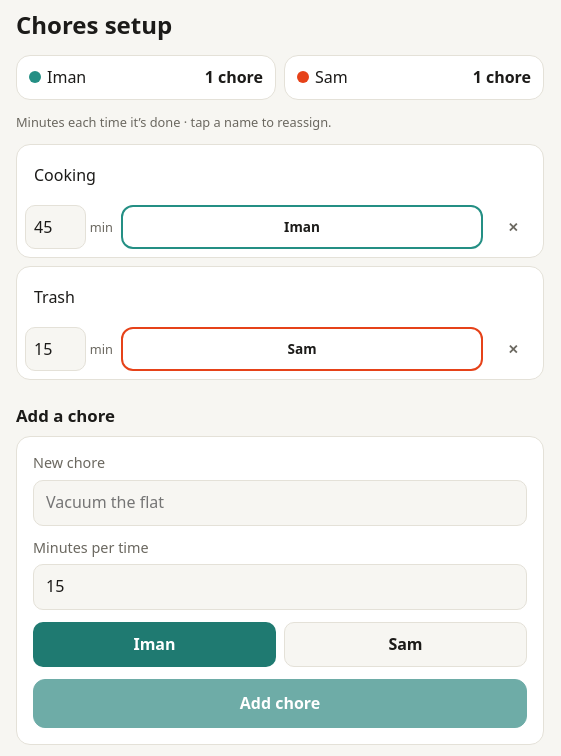
blurring an emptied block field reverts and does not write
Clear the field named "Minutes per time for Cooking" at point(55, 227), box [25,205,86,249]
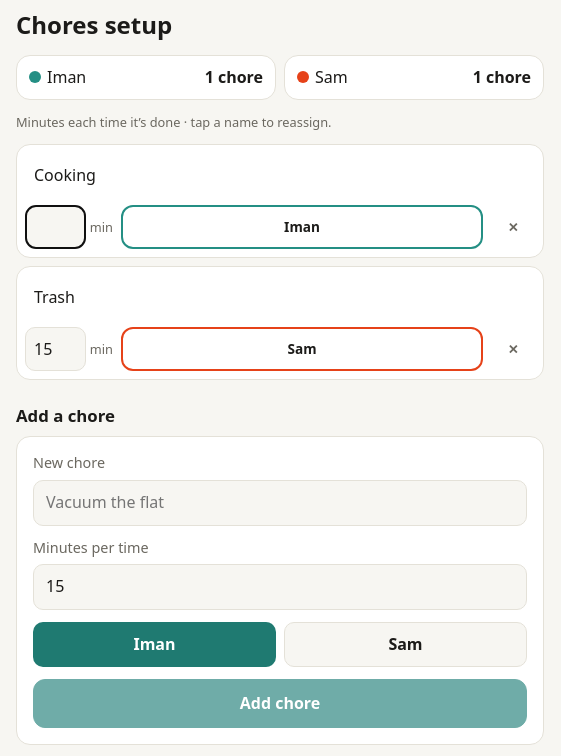
Press Tab
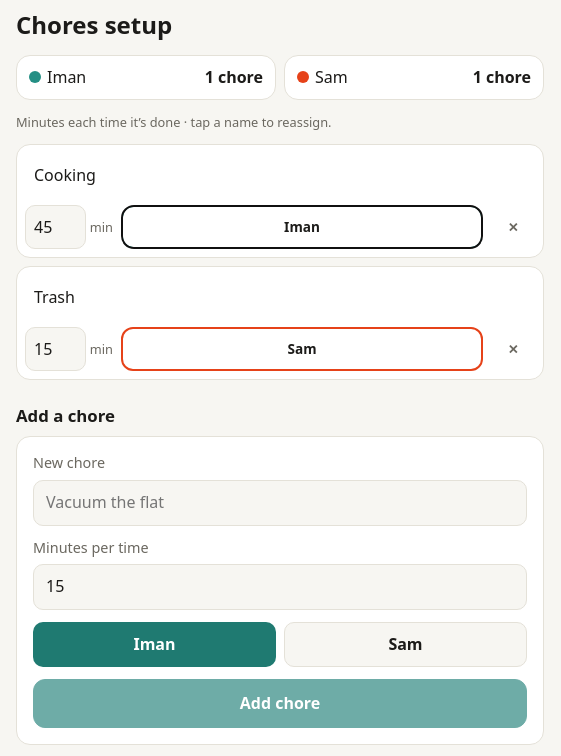
Check: the field named "Minutes per time for Cooking" holds "45", box [25,205,86,249]
